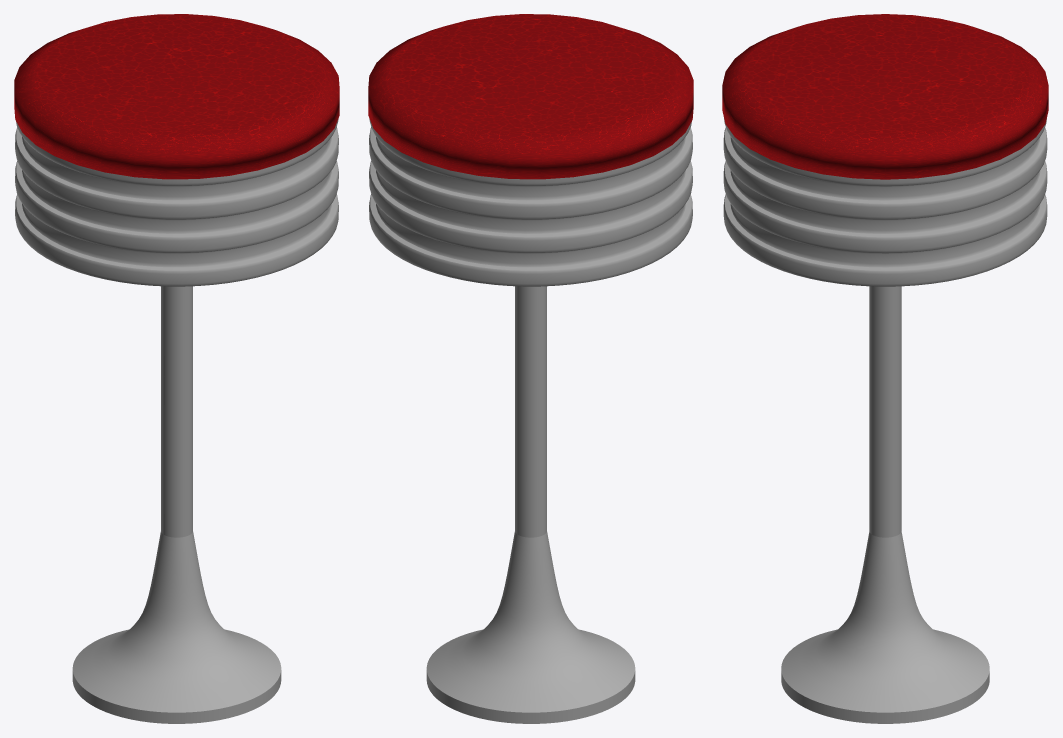
The model's file is chair.glb.
The picture shows the model from 3 angles, left to right: view 1: azimuth 30°, elevation 25°; view 2: azimuth 150°, elevation 25°; view 3: azimuth 270°, elevation 25°; orthographic projection.
Parts seen in each view (by area): view 1: 円柱; view 2: 円柱; view 3: 円柱.
Boxes of the visible parts, <box> form: 円柱: <box>14,14,339,723</box>; 円柱: <box>368,14,693,723</box>; 円柱: <box>722,14,1048,723</box>.
Size of the model in its own units: 2 by 4.1 by 2.
Materials: 2 (1 with a texture image).
